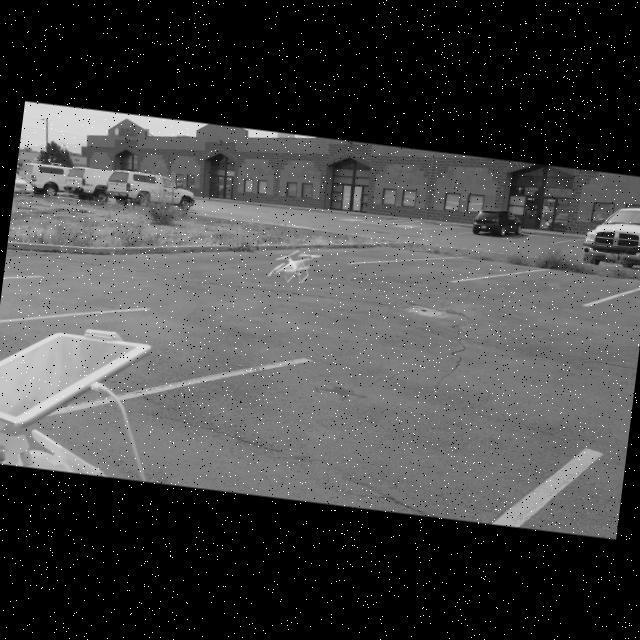Drons: (257, 240, 325, 294)
